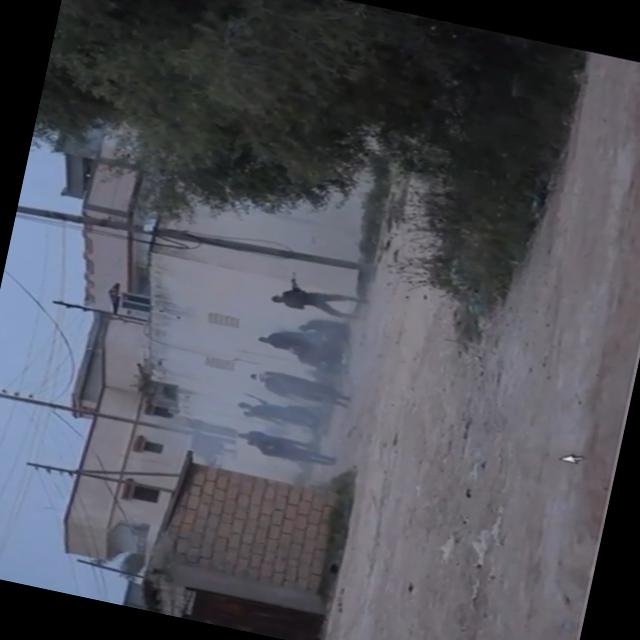long weapon: (237, 384, 277, 410), (279, 272, 307, 306)
